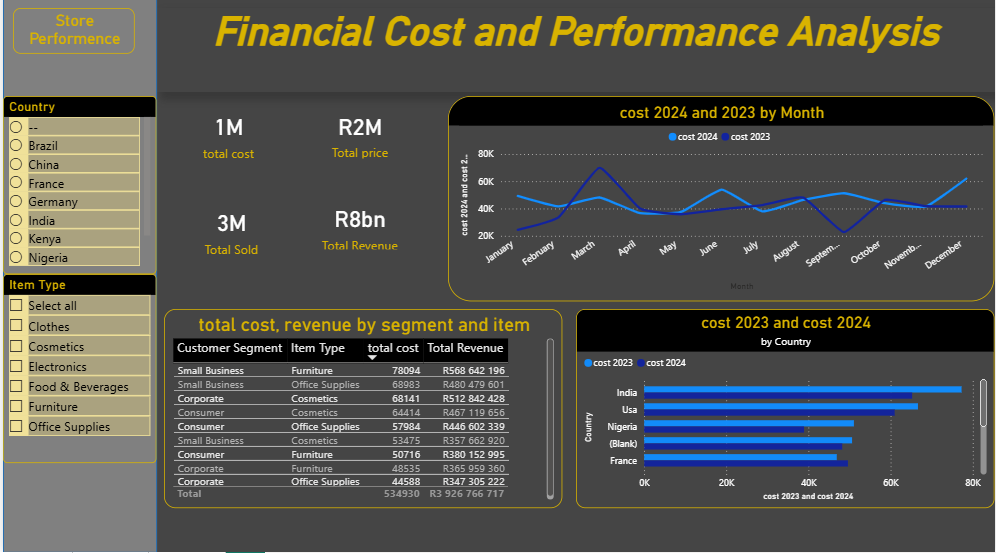

The dashboard page shown, as its layout file describes it:
{"tool":"powerbi","page":{"name":"Page 1","canvas":[1280,720],"ordinal":0},"visuals":[{"type":"textbox","title":"Financial Cost and Performance Analysis","box":[198.8,18.5,1081.5,108.6],"z":0},{"type":"card","fields":{"Values":["Dimension.Total cost"]},"box":[224,142.7,132.7,74.9],"z":0,"group":"g1"},{"type":"card","fields":{"Values":["FactSales.Total price"]},"box":[392.4,142.7,137,74.2],"z":0,"group":"g2"},{"type":"card","fields":{"Values":["FactSales.Total Units Sold"]},"box":[206.9,264,176.9,79.9],"z":0,"group":"g3"},{"type":"card","fields":{"Values":["FactSales.Total Sales"]},"box":[393.3,264.6,135.9,80.4],"z":0,"group":"g4"},{"type":"shape","box":[0,0,198.8,720.8],"z":1000},{"type":"group","id":"g1","title":"Group 1","box":[224,142.7,132.7,74.2],"z":2000},{"type":"textbox","title":"Store Performence","box":[12.9,18.6,157.3,58.6],"z":3000},{"type":"group","id":"g2","title":"Group 2","box":[392.4,142.7,137,74.2],"z":4000},{"type":"group","id":"g3","title":"Group 3","box":[206.9,264,176.9,79.9],"z":5000},{"type":"group","id":"g4","title":"Group 4","box":[393.3,264.6,135.9,80.4],"z":6000},{"type":"lineChart","title":"cost 2024 and 2023 by Month","fields":{"Category":["FactSales.Ship Date.Variation.Date Hierarchy.Month"],"Y":["FactSales.Sales year 2023","FactSales.cost 2023"]},"box":[573.6,131.3,704.9,265.4],"z":7000},{"type":"tableEx","title":"c","fields":{"Values":["DimSegment.Customer Segment","DimItem.Item Type","FactSales.total revenue","FactSales.Total Sales"]},"box":[208.3,406.8,514.5,256.5],"z":8000},{"type":"clusteredBarChart","fields":{"Category":["DimCountry.Country"],"Y":["FactSales.cost 2023","FactSales.cost 2024"]},"box":[739.8,406.8,540,256.5],"z":9000},{"type":"listSlicer","fields":{"Values":["DimCountry.Country"]},"box":[0,131.8,198.4,229.6],"z":10000},{"type":"listSlicer","fields":{"Values":["DimItem.Item Type"]},"box":[0,361.4,198.4,243.8],"z":11000}]}

Visuals, with their boxes in screenshot pixels (x1, y1, x2, y2), scaled from the page's 1280x720 canvas onto the 996x553 screenshot:
"Financial Cost and Performance Analysis" textbox: (155,14,995,98)
card - Dimension.Total cost: (174,110,278,167)
card - FactSales.Total price: (305,110,412,167)
card - FactSales.Total Units Sold: (161,203,299,264)
card - FactSales.Total Sales: (306,203,412,265)
shape: (0,0,155,552)
"Group 1" group: (174,110,278,167)
"Store Performence" textbox: (10,14,132,59)
"Group 2" group: (305,110,412,167)
"Group 3" group: (161,203,299,264)
"Group 4" group: (306,203,412,265)
"cost 2024 and 2023 by Month" lineChart: (446,101,995,305)
"c" tableEx: (162,312,562,509)
clusteredBarChart - DimCountry.Country x FactSales.cost 2023: (576,312,995,509)
listSlicer - DimCountry.Country: (0,101,154,278)
listSlicer - DimItem.Item Type: (0,278,154,465)
